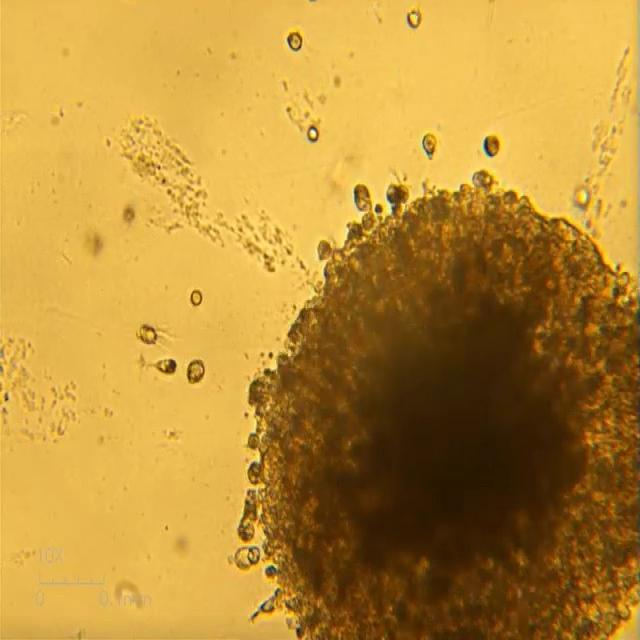cell: (572, 185, 590, 212), (148, 360, 178, 376), (186, 361, 205, 383), (420, 134, 436, 159), (286, 31, 304, 51), (482, 136, 498, 157), (137, 327, 158, 342), (408, 11, 422, 28), (124, 205, 135, 223), (190, 291, 203, 303), (308, 126, 318, 141)
tumor_mass: (234, 170, 640, 640)
